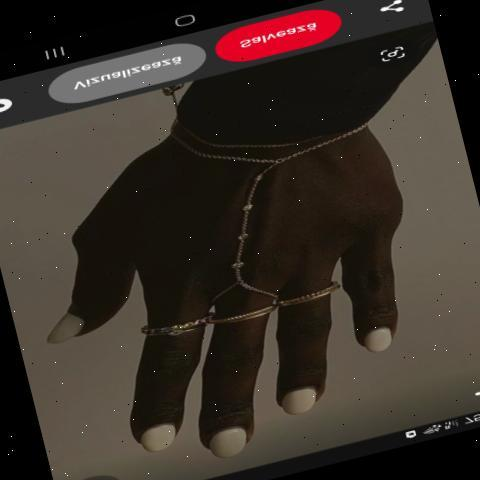Hands: (46, 115, 461, 480)
